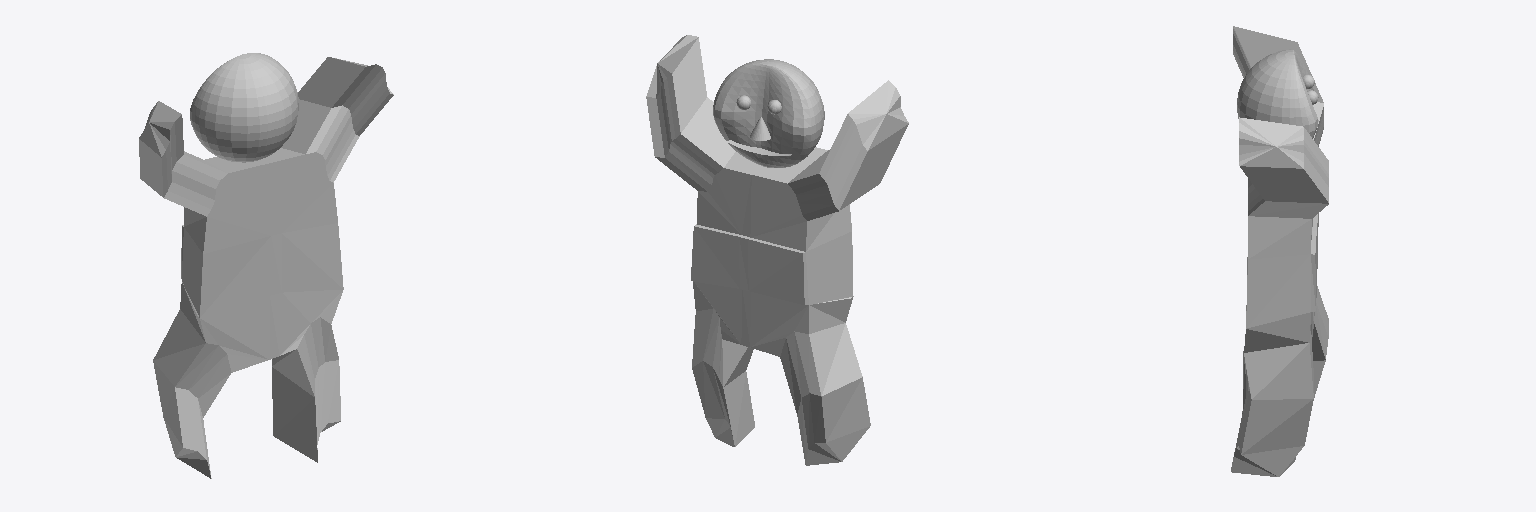
The model's file is man_000029.obj.
3 renders of one model, left to right at view 1: azimuth 30°, elevation 25°; view 2: azimuth 150°, elevation 25°; view 3: azimuth 270°, elevation 25°, orthographic.
Parts seen in each view (by area): view 1: Cube; view 2: Cube; view 3: Cube.
Boxes of the visible parts, box(x1,y1,x2,y2) form: Cube: box(139, 53, 393, 478); Cube: box(646, 35, 908, 465); Cube: box(1231, 26, 1328, 476).
Size of the model in its own units: 79.08 by 127 by 28.8.